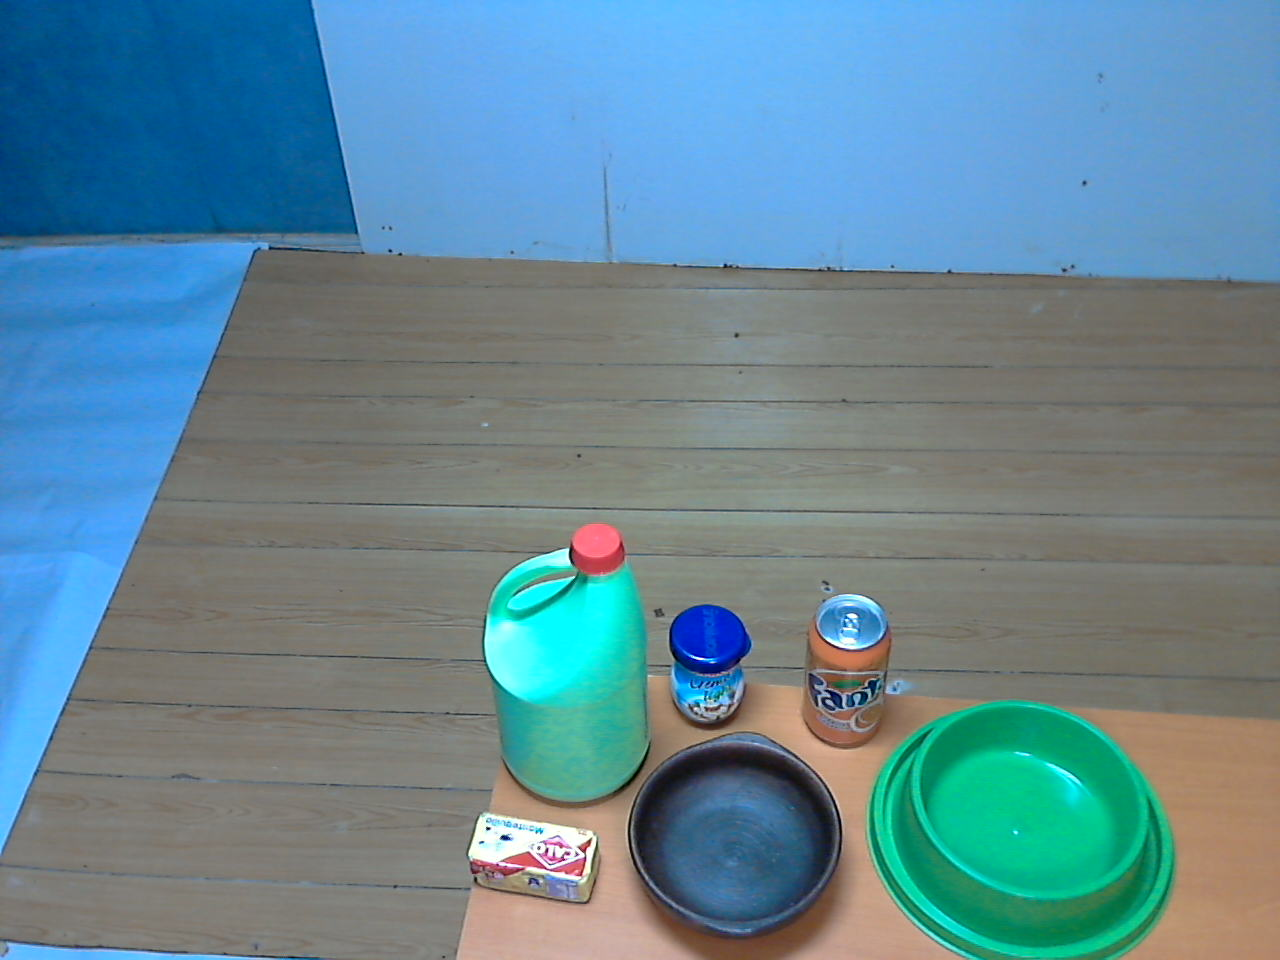cloroplano: (471, 519, 660, 811)
crema: (660, 598, 761, 736)
greda: (616, 725, 851, 948)
lata: (794, 586, 895, 756)
mantequilla: (461, 801, 599, 911)
platoperro: (864, 689, 1185, 960)
